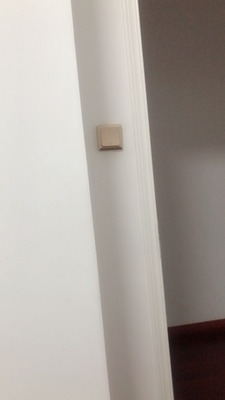switch: (97, 125, 122, 147)
